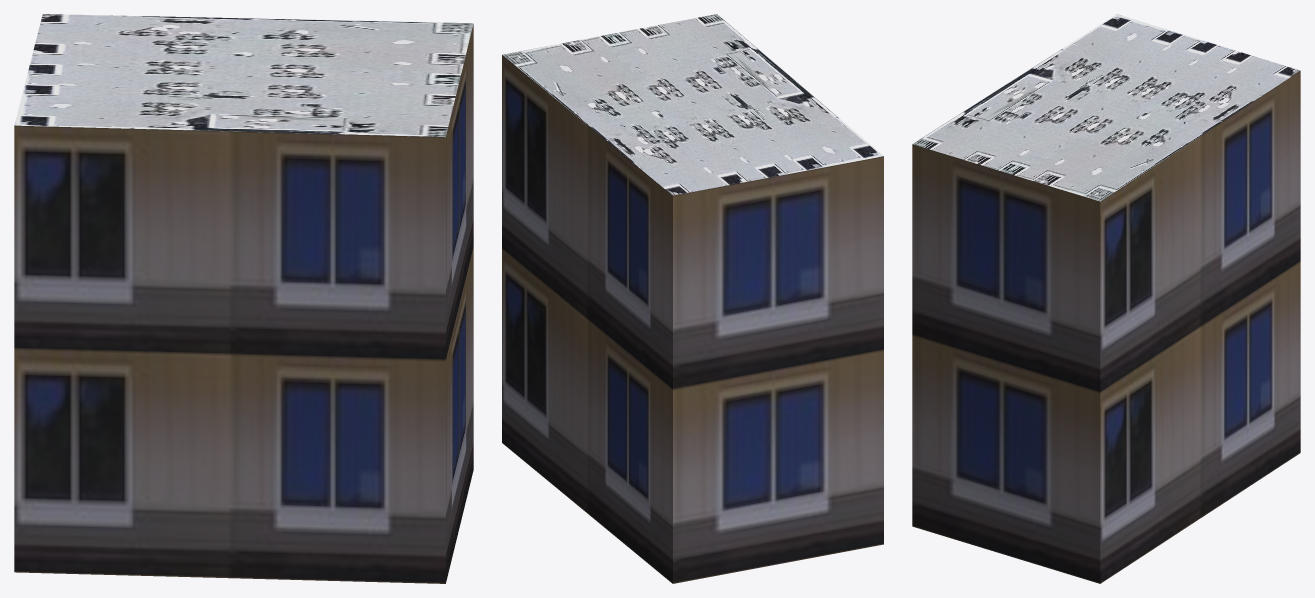
Rendered from ResTex__2010.fbx.
The picture shows the model from 3 angles, left to right: view 1: azimuth 30°, elevation 25°; view 2: azimuth 150°, elevation 25°; view 3: azimuth 270°, elevation 25°; orthographic projection. The views are drawn at different scales.
Parts seen in each view (by area): view 1: CityEngineMaterial_5_m, CityEngineMaterial_8_m; view 2: CityEngineMaterial_5_m, CityEngineMaterial_8_m; view 3: CityEngineMaterial_5_m, CityEngineMaterial_8_m.
Boxes of the visible parts, x1,y1,x2,y2 form: CityEngineMaterial_5_m: (14,24,473,583); CityEngineMaterial_8_m: (14,14,473,137); CityEngineMaterial_5_m: (502,55,883,583); CityEngineMaterial_8_m: (502,14,883,195); CityEngineMaterial_5_m: (912,71,1300,583); CityEngineMaterial_8_m: (912,14,1300,201).
Bounding box in the file's own units: 6.32 × 6 × 5.53.
Materials: 2 (2 with a texture image).
